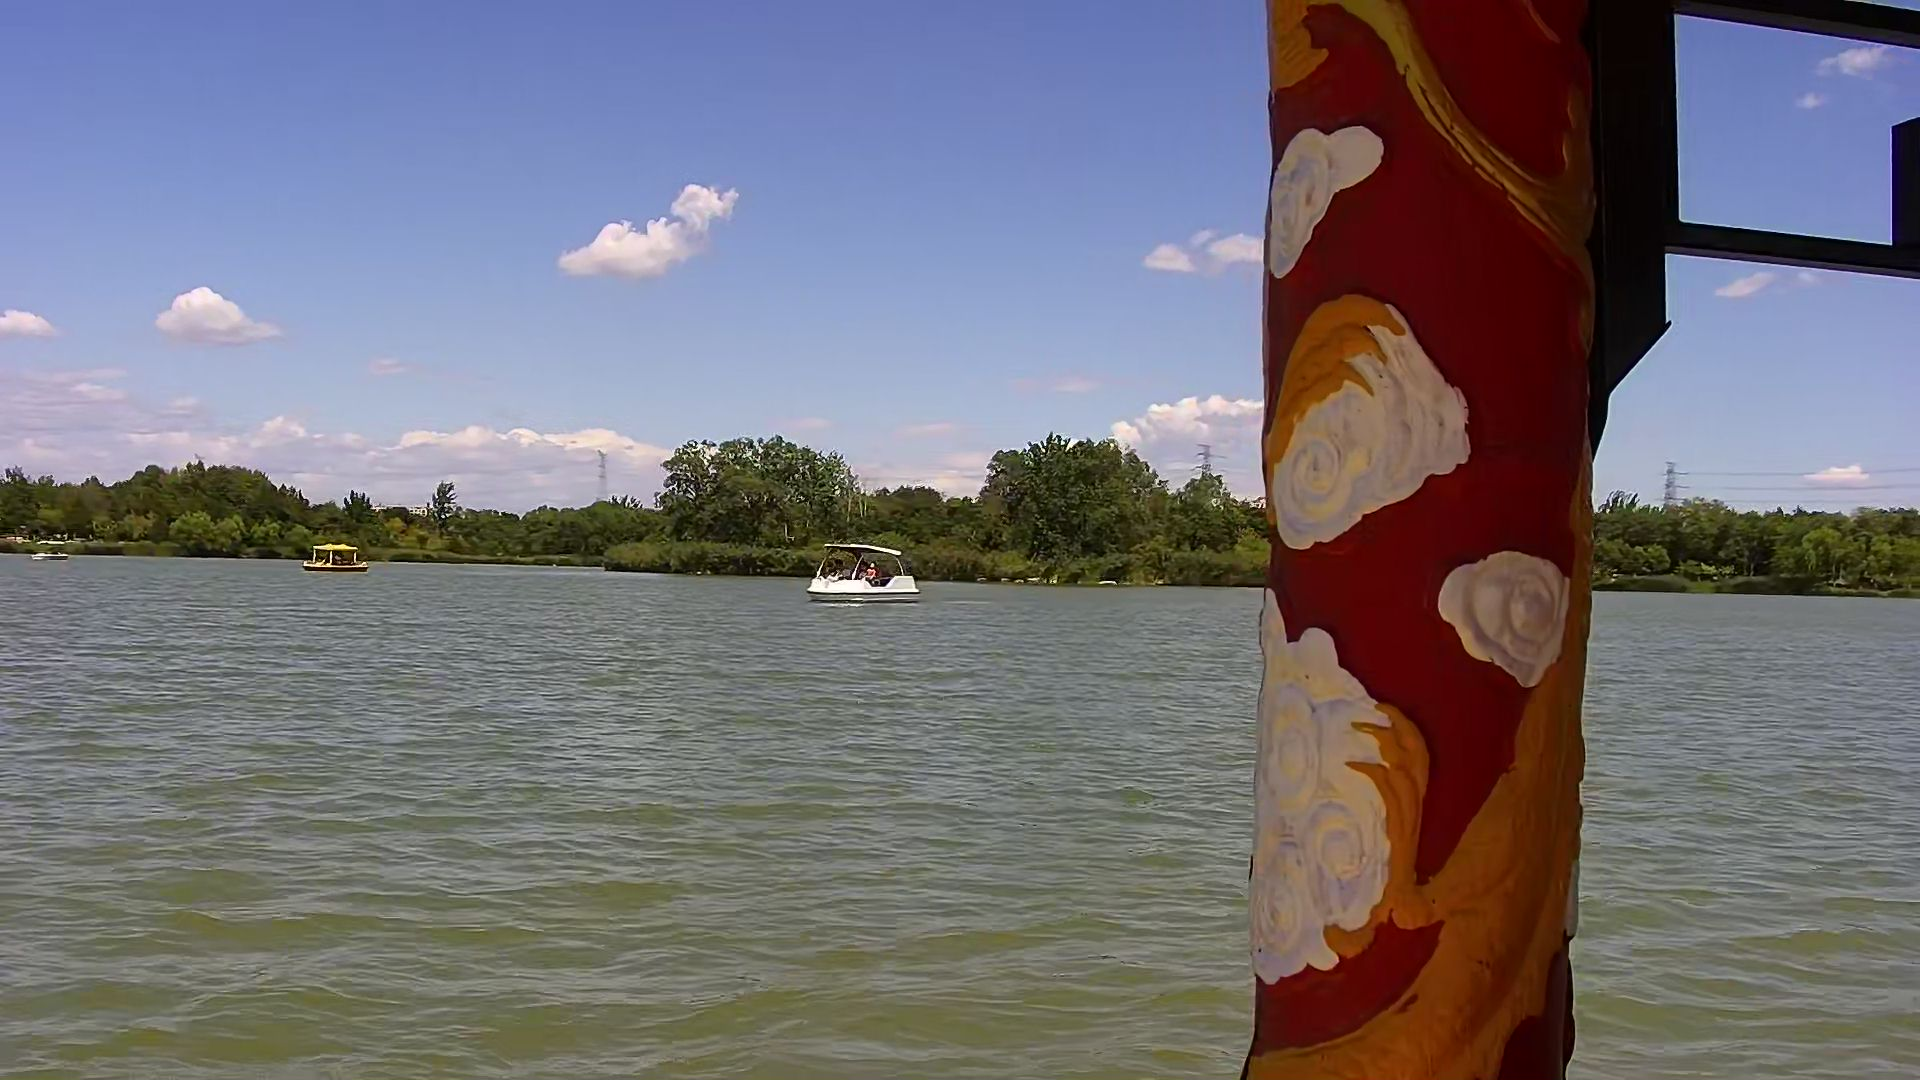boat: (804, 535, 918, 611), (301, 543, 364, 568), (28, 542, 62, 560)
